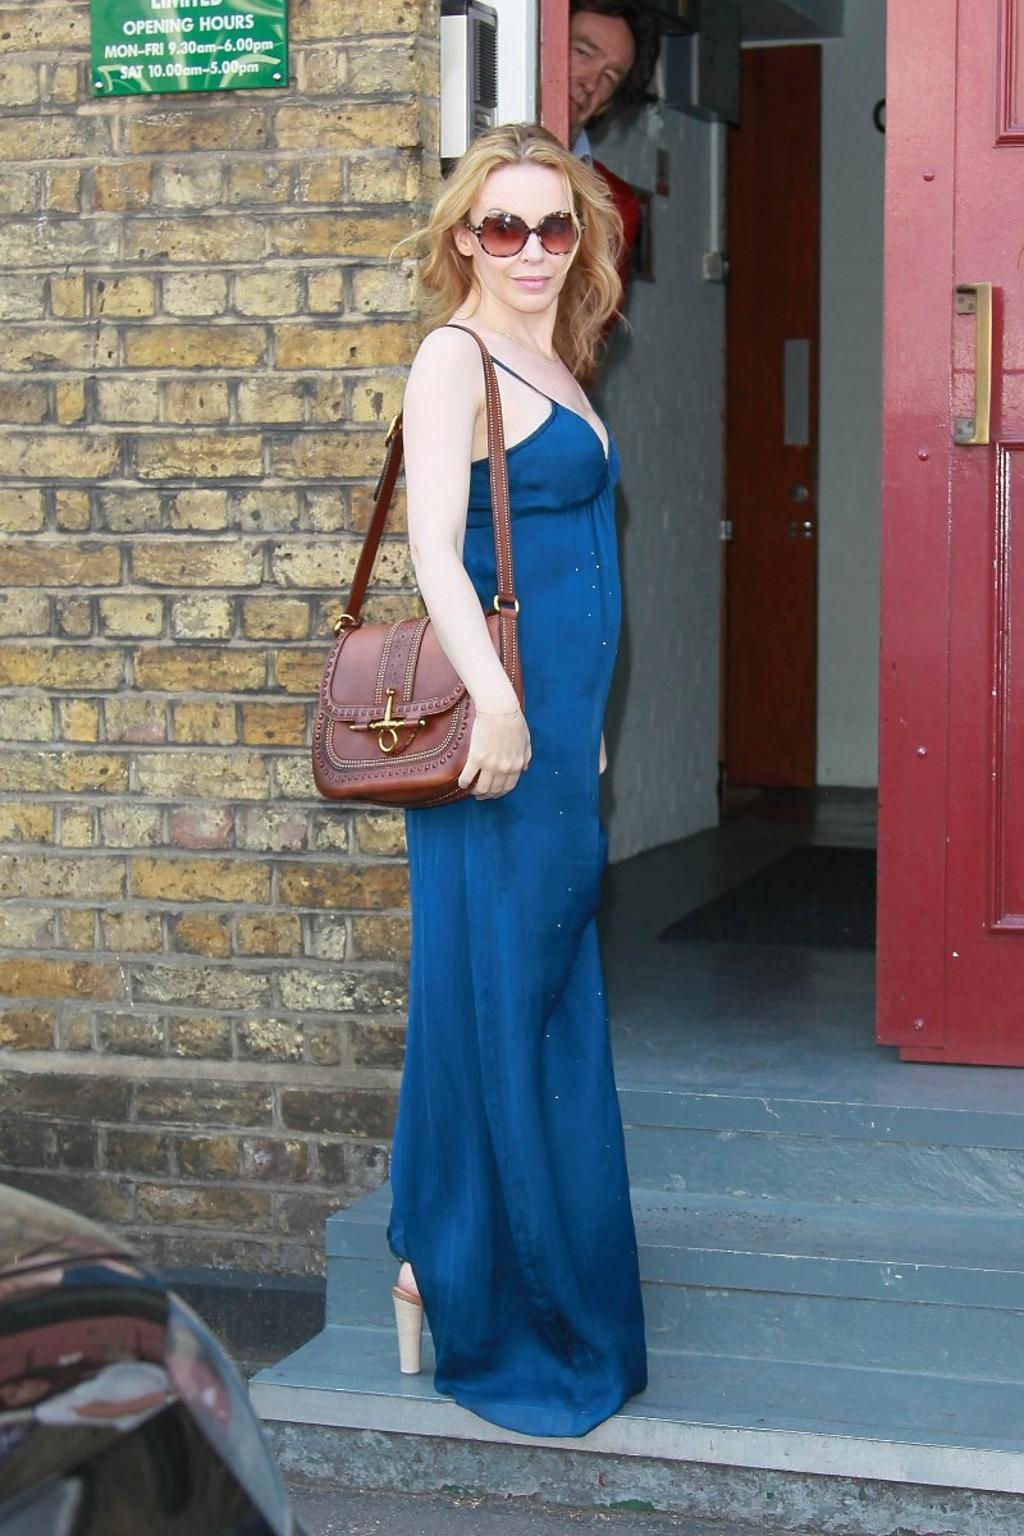face: (462, 153, 579, 312), (559, 6, 634, 135)
